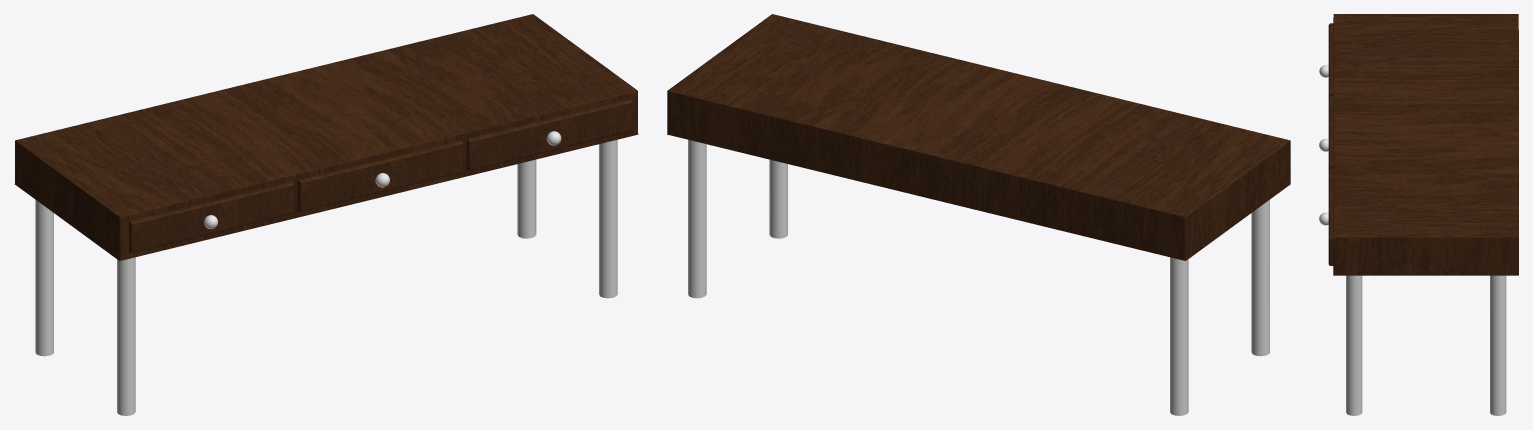
Rendered from table.glb.
The picture shows the model from 3 angles, left to right: view 1: azimuth 30°, elevation 25°; view 2: azimuth 150°, elevation 25°; view 3: azimuth 270°, elevation 25°; orthographic projection. The views are drawn at different scales.
Visible parts, largest first — view 1: Plane.005, Plane.007, legs; view 2: Plane.005, legs; view 3: Plane.005, legs, Plane.007.
Part boxes in pixels (bbox=[...]): Plane.005: bbox=[14, 14, 638, 260]; Plane.007: bbox=[129, 99, 632, 252]; legs: bbox=[35, 139, 617, 415]; Plane.005: bbox=[667, 14, 1290, 260]; legs: bbox=[688, 139, 1269, 415]; Plane.005: bbox=[1333, 14, 1518, 275]; legs: bbox=[1346, 275, 1506, 415]; Plane.007: bbox=[1328, 23, 1333, 265].
Bounding box in the file's own units: 3.7 × 1.42 × 1.4.
2 materials, 1 textured.
